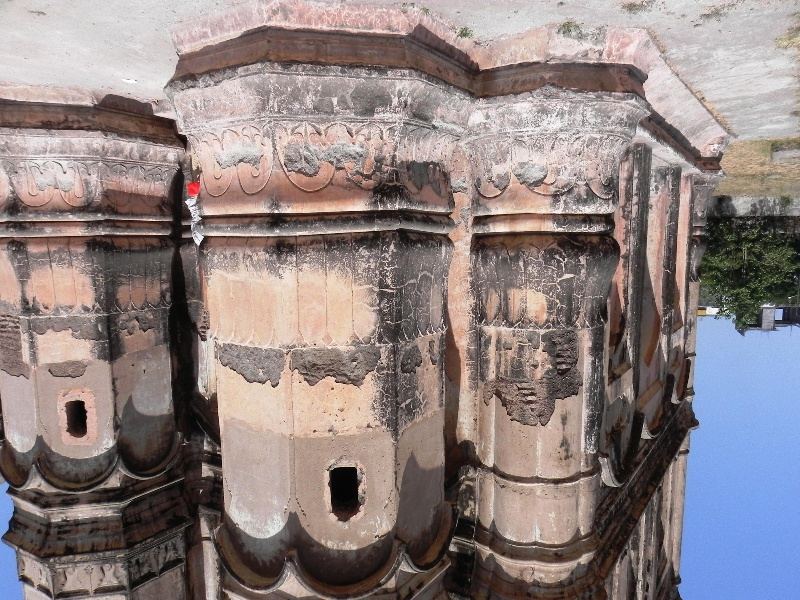Exposed Bricks: (1, 309, 21, 347), (517, 380, 539, 412), (553, 336, 571, 373)
Spalling: (288, 340, 388, 391), (27, 312, 169, 347), (213, 340, 287, 390), (397, 331, 442, 380)
